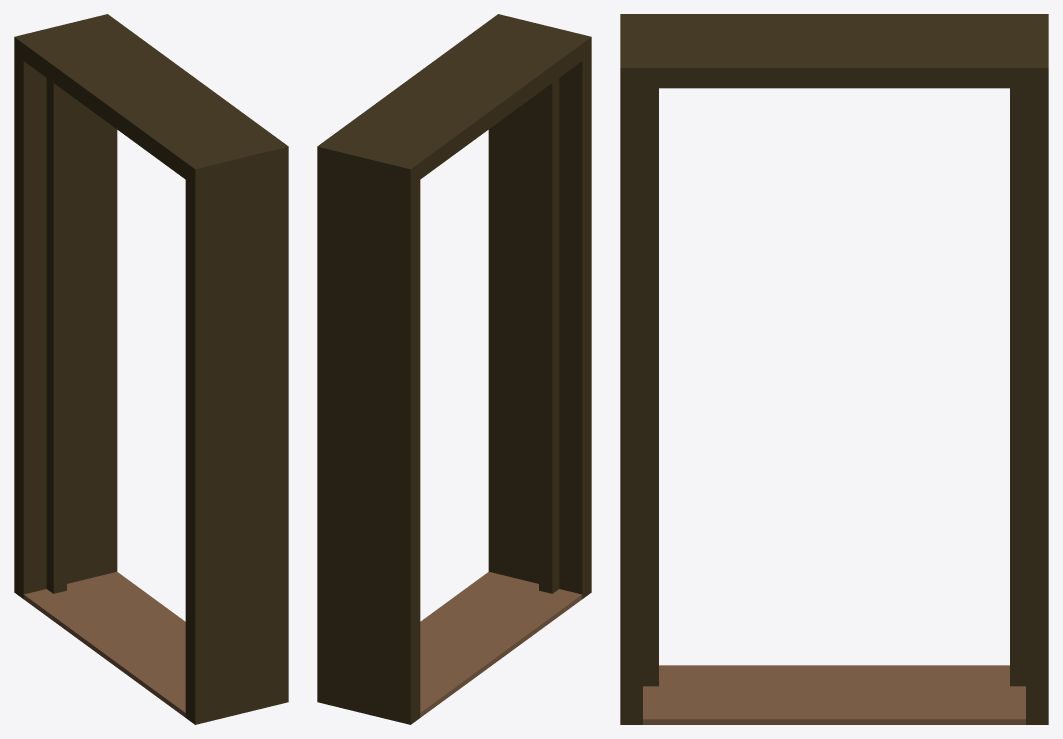
The model's file is SM_doorFrame_01.glb.
3 renders of one model, left to right at view 1: azimuth 30°, elevation 25°; view 2: azimuth 150°, elevation 25°; view 3: azimuth 270°, elevation 25°, orthographic. The views are drawn at different scales.
Visible parts, largest first — view 1: SM_doorFrame_01; view 2: SM_doorFrame_01; view 3: SM_doorFrame_01.
Part boxes in pixels (x1=…): SM_doorFrame_01: x1=14, y1=14, x2=288, y2=724; SM_doorFrame_01: x1=317, y1=14, x2=591, y2=724; SM_doorFrame_01: x1=620, y1=14, x2=1048, y2=724.
Size of the model in its own units: 0.4 by 2.27 by 1.34.
Materials: 2 (1 with a texture image).
